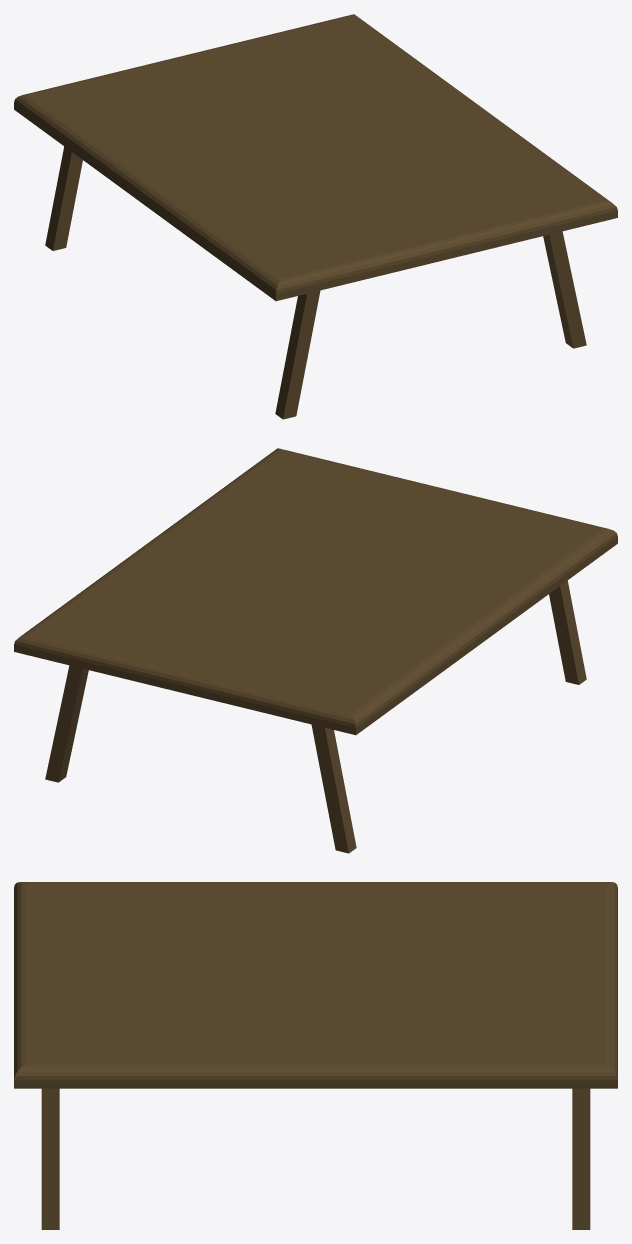
Rendered from table.fbx.
3 views of the same model, one above another, from view 1: azimuth 30°, elevation 25°; view 2: azimuth 150°, elevation 25°; view 3: azimuth 270°, elevation 25° (orthographic). The views are drawn at different scales.
Parts seen in each view (by area): view 1: Cube; view 2: Cube; view 3: Cube.
Part boxes in pixels (x1,y1,x2,y2): Cube: [14, 14, 617, 419]; Cube: [14, 448, 617, 853]; Cube: [14, 882, 617, 1229].
Bounding box in the file's own units: 688 × 284 × 912.
